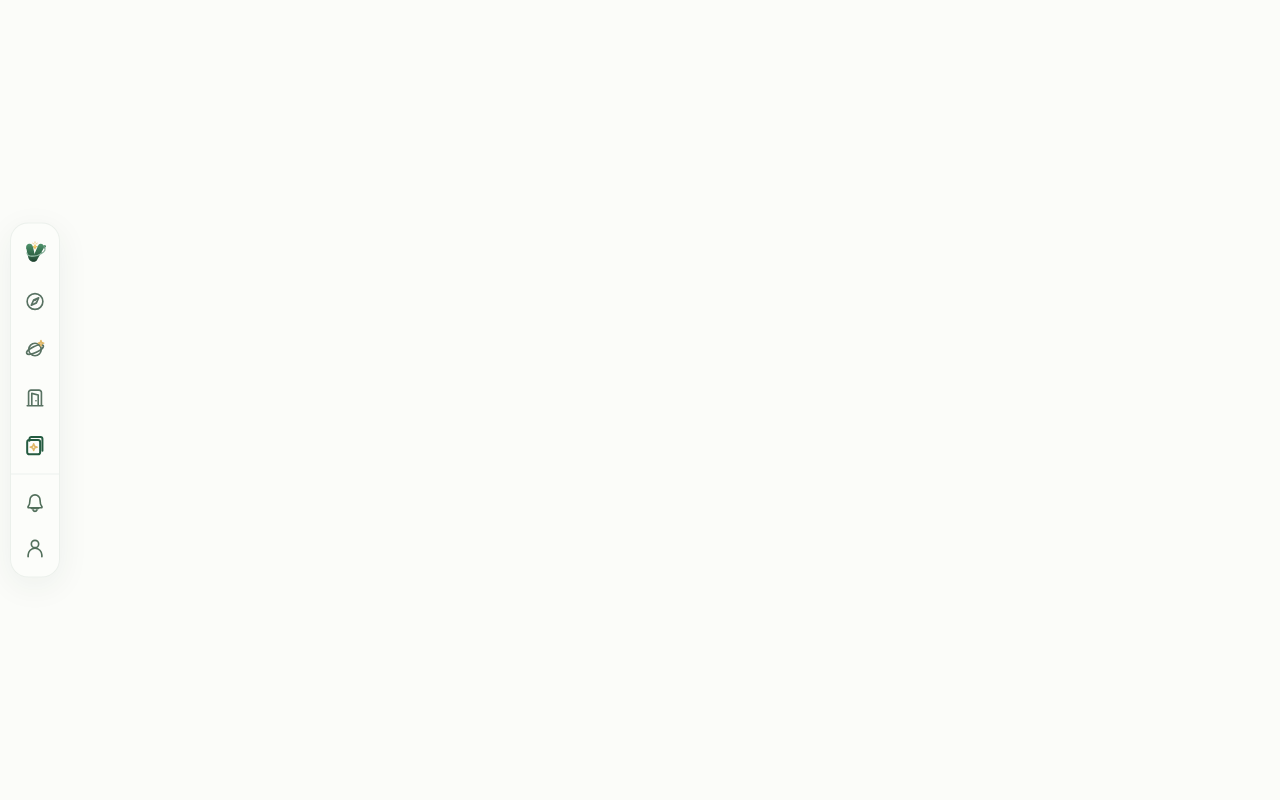
Demo account, no external identity or ownership mutation › avatar opens overlay for guests without changing the page
Click the button named "Đăng nhập". click: (35, 548)
box: [13,526,57,570]
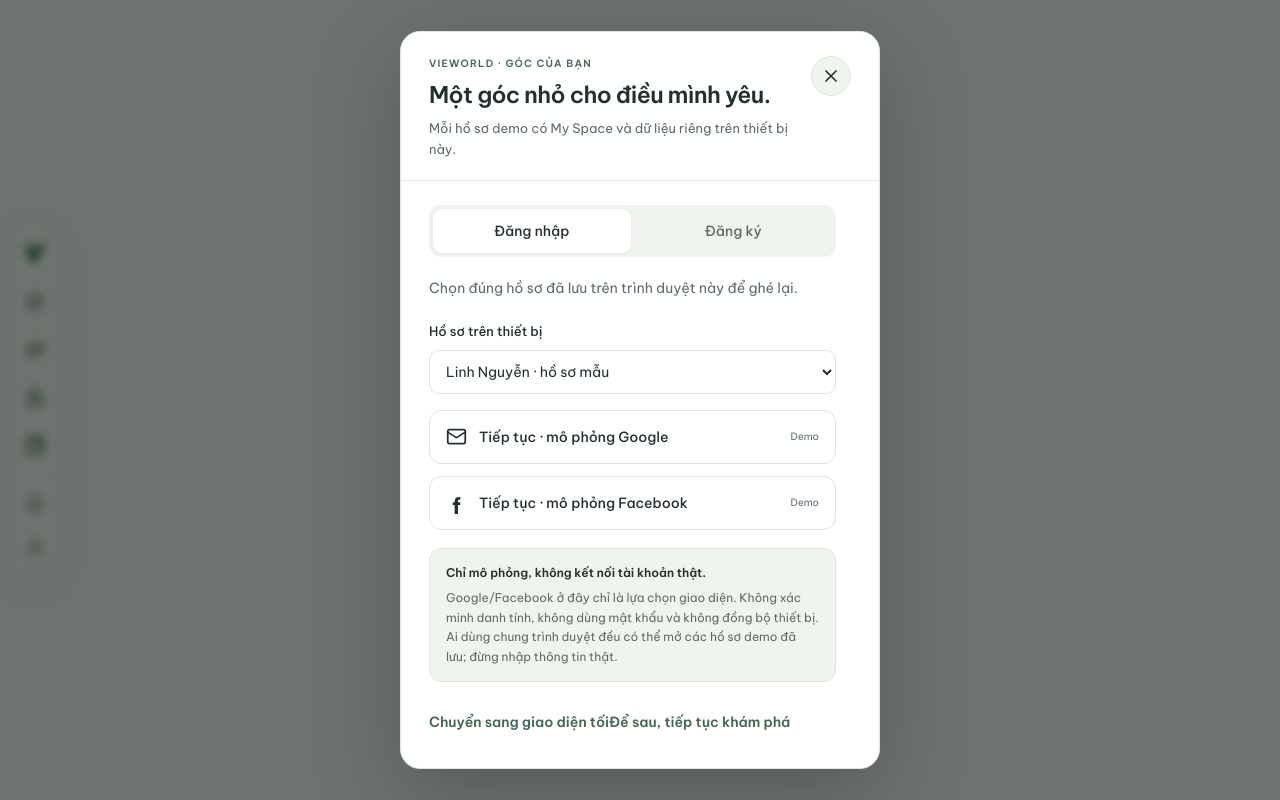
Result: the dialog with test id "demo-auth-overlay" is shown at [400,31,880,769]
Click the button "Chuyển sang giao diện tối". click: (519, 722)
box: [429,700,609,744]
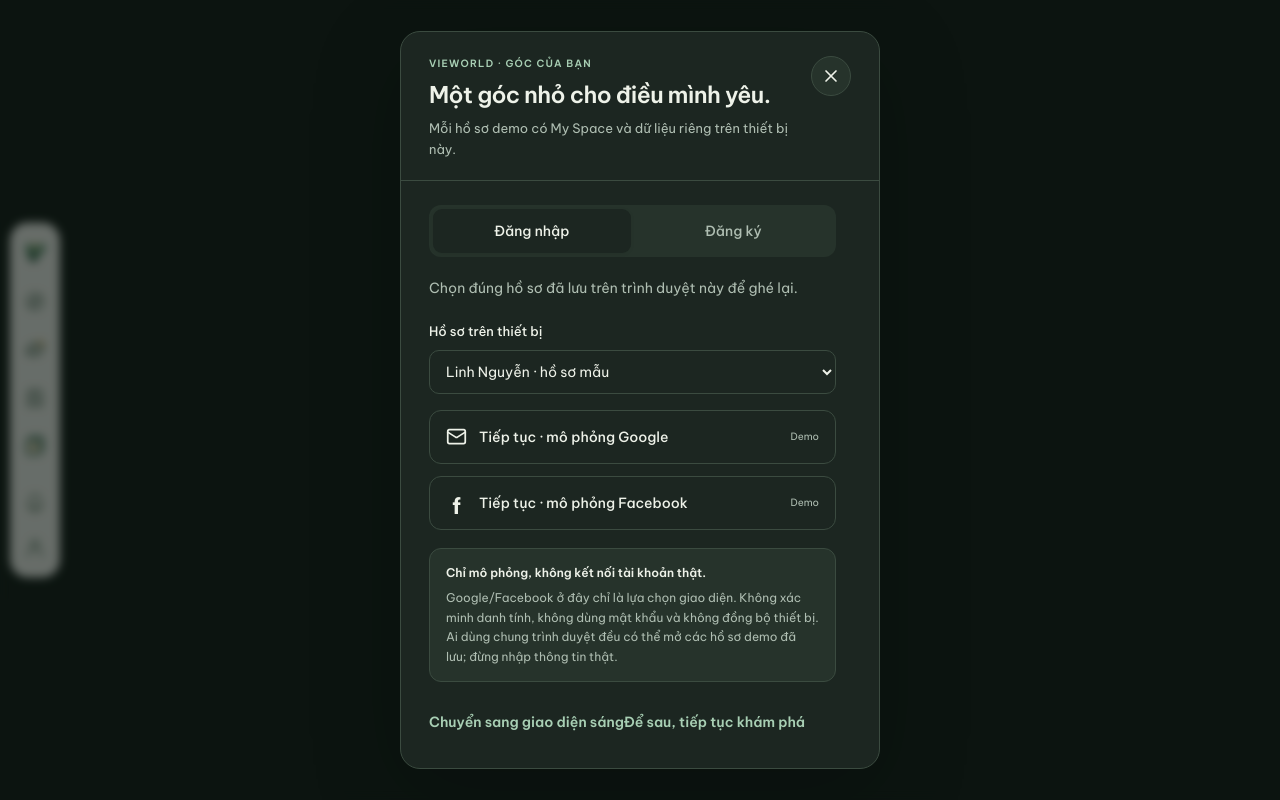
Result: the element with test id "app-container" has attribute data-theme="dark"
Click the button "Để sau, tiếp tục khám phá". click: (714, 722)
box: [624,700,805,744]
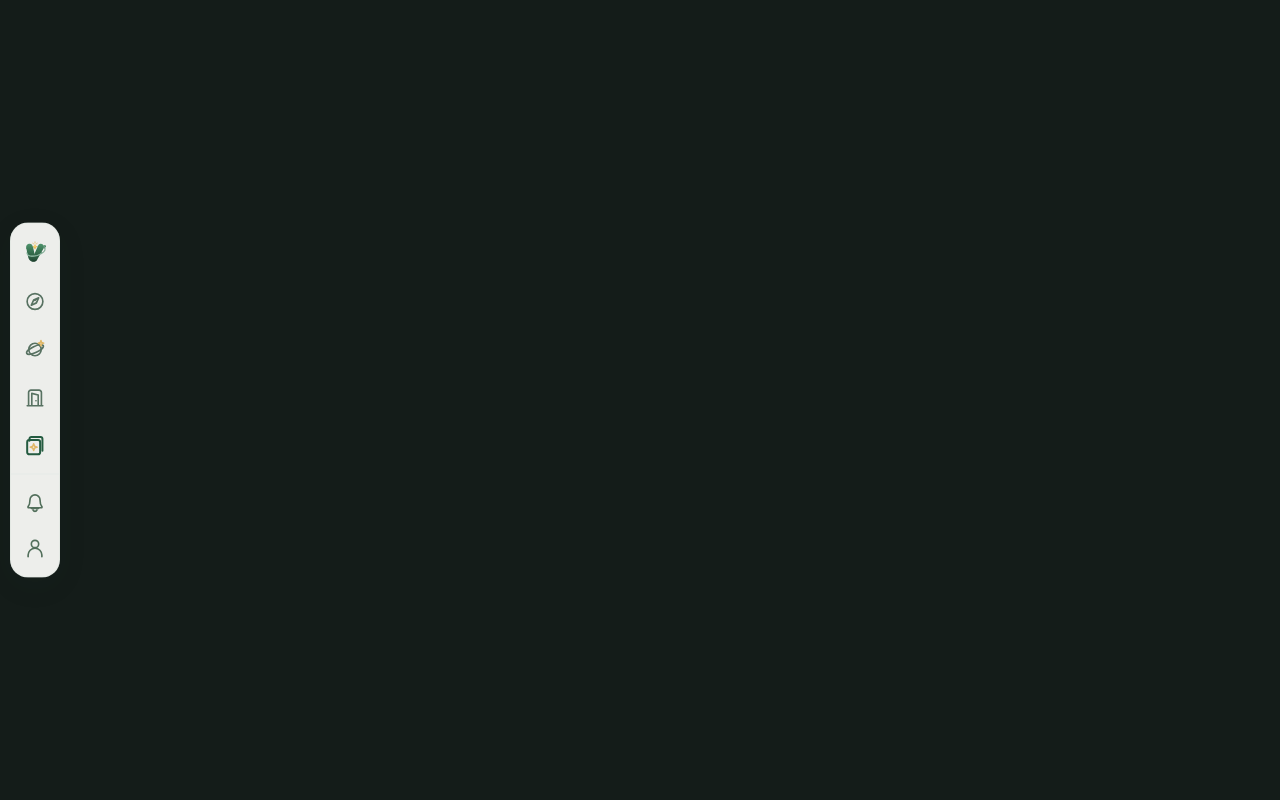
Result: the dialog is gone
